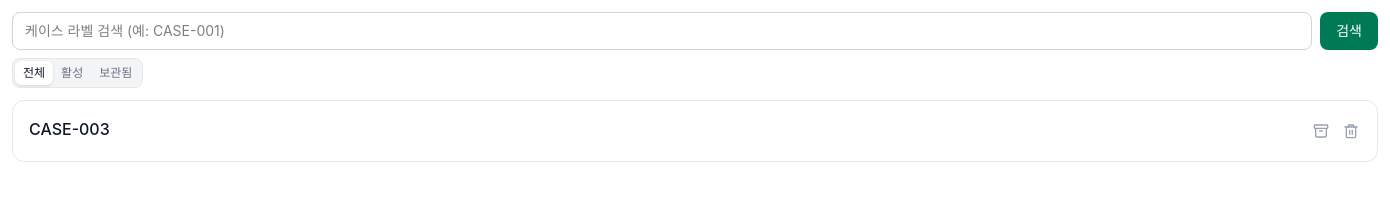
환자 목록 보관 액션 › 보관 버튼을 눌러도 행 선택(상세 이동)은 일어나지 않는다
The image size is (1390, 223).
Step 1. Click the button named "CASE-003 보관" → (1321, 131), box [1307,117,1335,145]
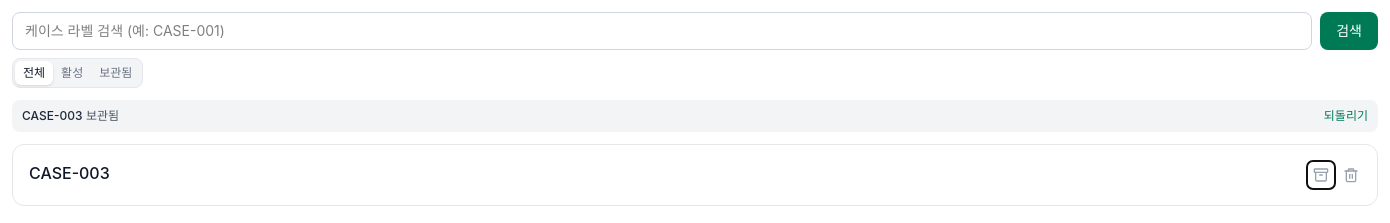
Expected: the button "되돌리기" is shown, [1324,108,1368,124]
